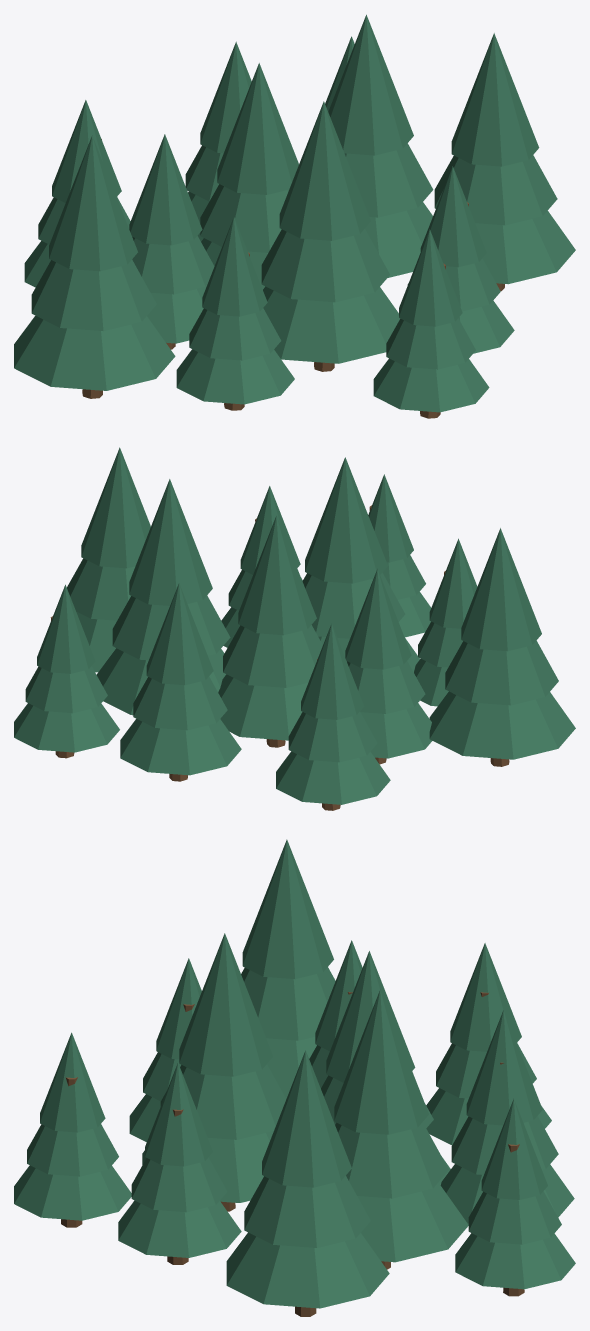
The model's file is FEATURE_TAIGA_v02.fbx.
3 views of the same model, one above another, from view 1: azimuth 30°, elevation 25°; view 2: azimuth 150°, elevation 25°; view 3: azimuth 270°, elevation 25° (orthographic). The views are drawn at different scales.
Parts seen in each view (by area): view 1: Pine_whorl.105, Pine_whorl.075, Pine_whorl.077, Pine_whorl.076, Pine_whorl.080, Pine_whorl.107, Pine_whorl.106, Pine_whorl.095, Pine_whorl.074, Pine_whorl.094, Pine_whorl.093, Pine_whorl.090 (+20 smaller); view 2: Pine_whorl.105, Pine_whorl.077, Pine_whorl.080, Pine_whorl.107, Pine_whorl.106, Pine_whorl.074, Pine_whorl.087, Pine_whorl.095, Pine_whorl.073, Pine_whorl.096, Pine_whorl.072, Pine_whorl.089 (+22 smaller); view 3: Pine_whorl.093, Pine_whorl.080, Pine_whorl.077, Pine_whorl.107, Pine_whorl.095, Pine_whorl.094, Pine_whorl.079, Pine_whorl.078, Pine_whorl.076, Pine_whorl.084, Pine_whorl.102, Pine_whorl.099 (+21 smaller).
Boxes of the visible parts, left/top/right/bottom form: Pine_whorl.105: left=14, top=315, right=175, bottom=390; Pine_whorl.075: left=263, top=286, right=400, bottom=363; Pine_whorl.077: left=279, top=101, right=370, bottom=240; Pine_whorl.076: left=261, top=229, right=389, bottom=302; Pine_whorl.080: left=328, top=14, right=413, bottom=155; Pine_whorl.107: left=49, top=135, right=137, bottom=271; Pine_whorl.106: left=31, top=259, right=156, bottom=331; Pine_whorl.095: left=451, top=33, right=539, bottom=166; Pine_whorl.074: left=217, top=63, right=298, bottom=194; Pine_whorl.094: left=434, top=155, right=557, bottom=225; Pine_whorl.093: left=475, top=210, right=575, bottom=284; Pine_whorl.090: left=176, top=349, right=294, bottom=404; Pine_whorl.105: left=429, top=691, right=575, bottom=759; Pine_whorl.077: left=305, top=457, right=387, bottom=583; Pine_whorl.080: left=129, top=479, right=212, bottom=605; Pine_whorl.107: left=461, top=528, right=541, bottom=651; Pine_whorl.106: left=445, top=640, right=558, bottom=705; Pine_whorl.074: left=238, top=515, right=316, bottom=635; Pine_whorl.087: left=120, top=719, right=241, bottom=775; Pine_whorl.095: left=81, top=447, right=150, bottom=568; Pine_whorl.073: left=223, top=625, right=322, bottom=687; Pine_whorl.096: left=276, top=751, right=390, bottom=804; Pine_whorl.072: left=218, top=674, right=307, bottom=740; Pine_whorl.089: left=146, top=583, right=213, bottom=685; Pine_whorl.093: left=226, top=1232, right=389, bottom=1308; Pine_whorl.080: left=334, top=990, right=428, bottom=1134; Pine_whorl.077: left=179, top=933, right=273, bottom=1076; Pine_whorl.107: left=242, top=839, right=333, bottom=978; Pine_whorl.095: left=262, top=1050, right=351, bottom=1187; Pine_whorl.094: left=244, top=1176, right=370, bottom=1247; Pine_whorl.079: left=335, top=1122, right=448, bottom=1198; Pine_whorl.078: left=357, top=1182, right=468, bottom=1262; Pine_whorl.076: left=160, top=1064, right=286, bottom=1139; Pine_whorl.084: left=118, top=1200, right=241, bottom=1257; Pine_whorl.102: left=455, top=1233, right=575, bottom=1289; Pine_whorl.099: left=14, top=1165, right=131, bottom=1220.
Size of the model in its own units: 149 by 69.64 by 128.
